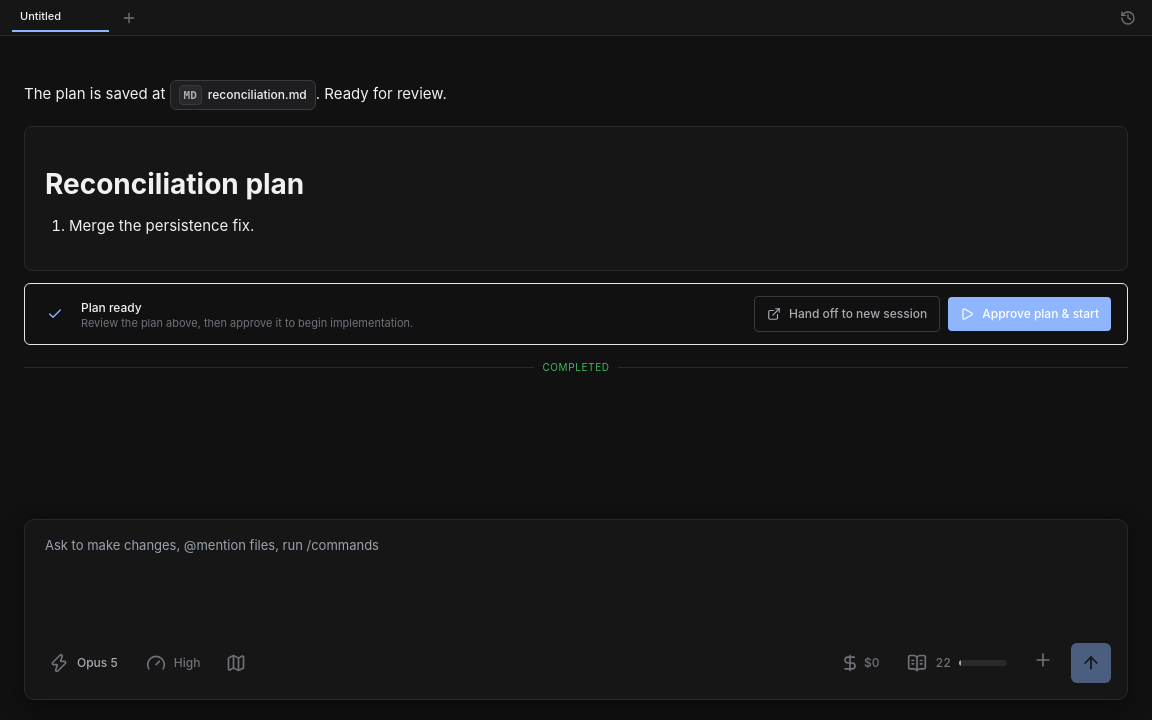
Scenario: ChatPanel reconstruction › shows a saved plan inline and opens its path in a file tab
Expected: the element with test id "plan-preview" shows "Reconciliation plan", left=45, top=167, right=304, bottom=201
Expected: the element with test id "plan-preview" does not show "reconciliation.md", left=24, top=126, right=1128, bottom=271
Click the button "MD reconciliation.md". click: (243, 95)
box: left=170, top=80, right=316, bottom=110
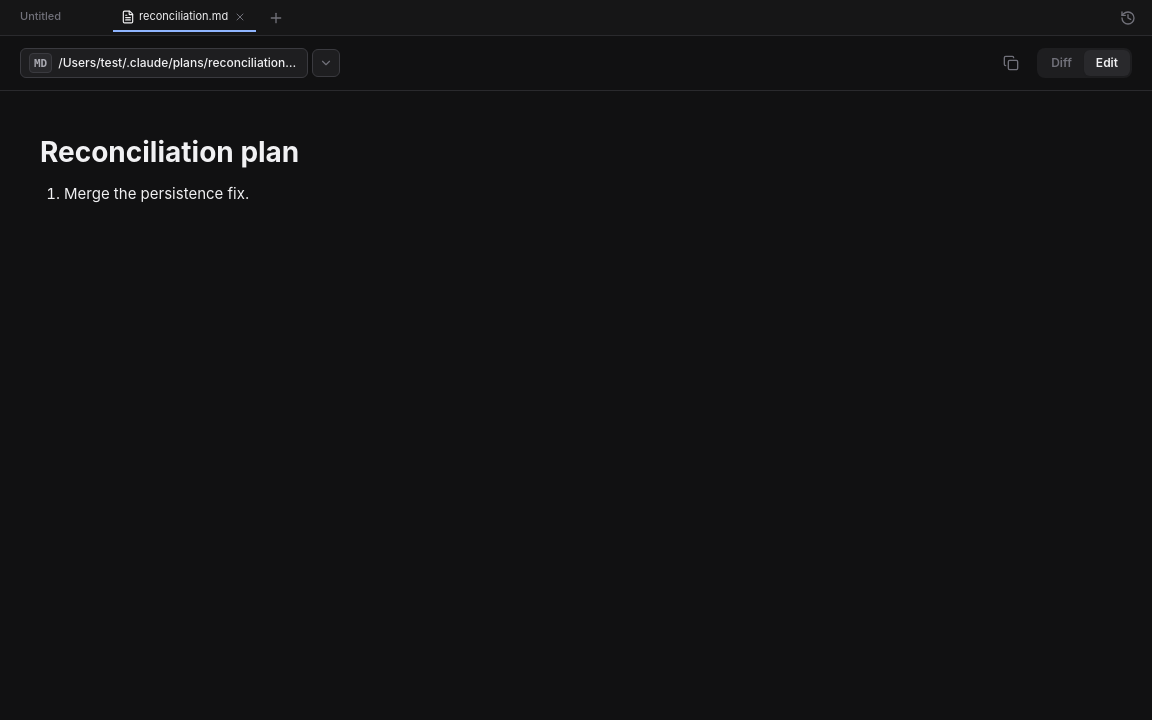
Expected: the element with test id "chat-file-tab" reads "reconciliation.md", left=121, top=10, right=228, bottom=24
